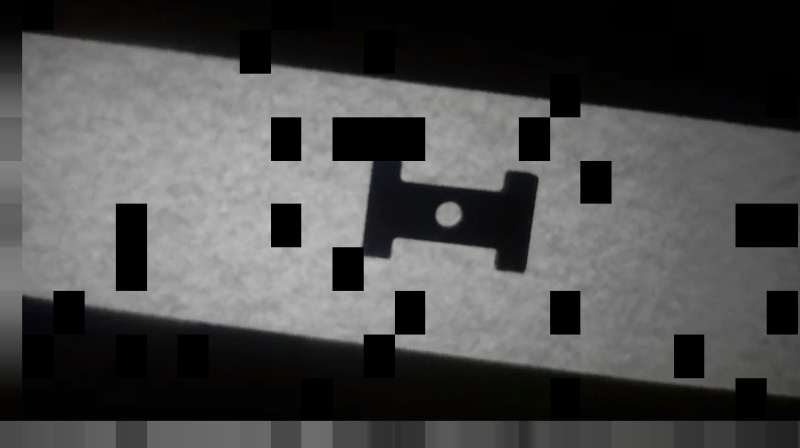O002: (356, 153, 541, 276)
